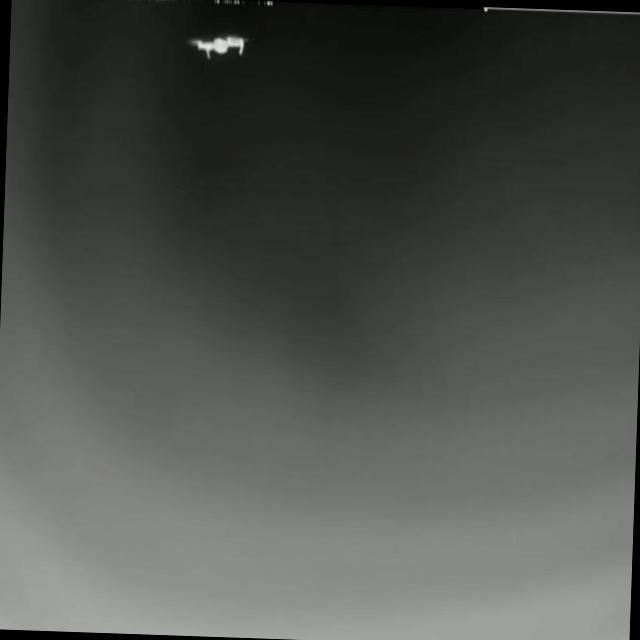DRONE: (185, 29, 255, 62)
